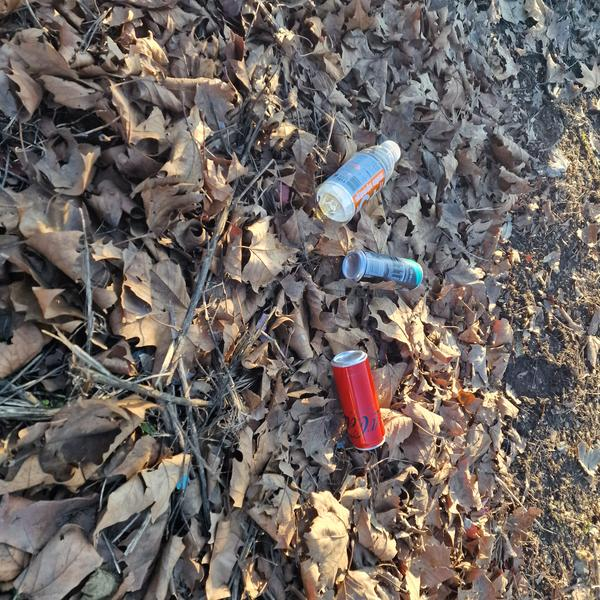can: (327, 345, 394, 457), (341, 249, 426, 291)
plastic_bottle: (310, 128, 414, 229)
